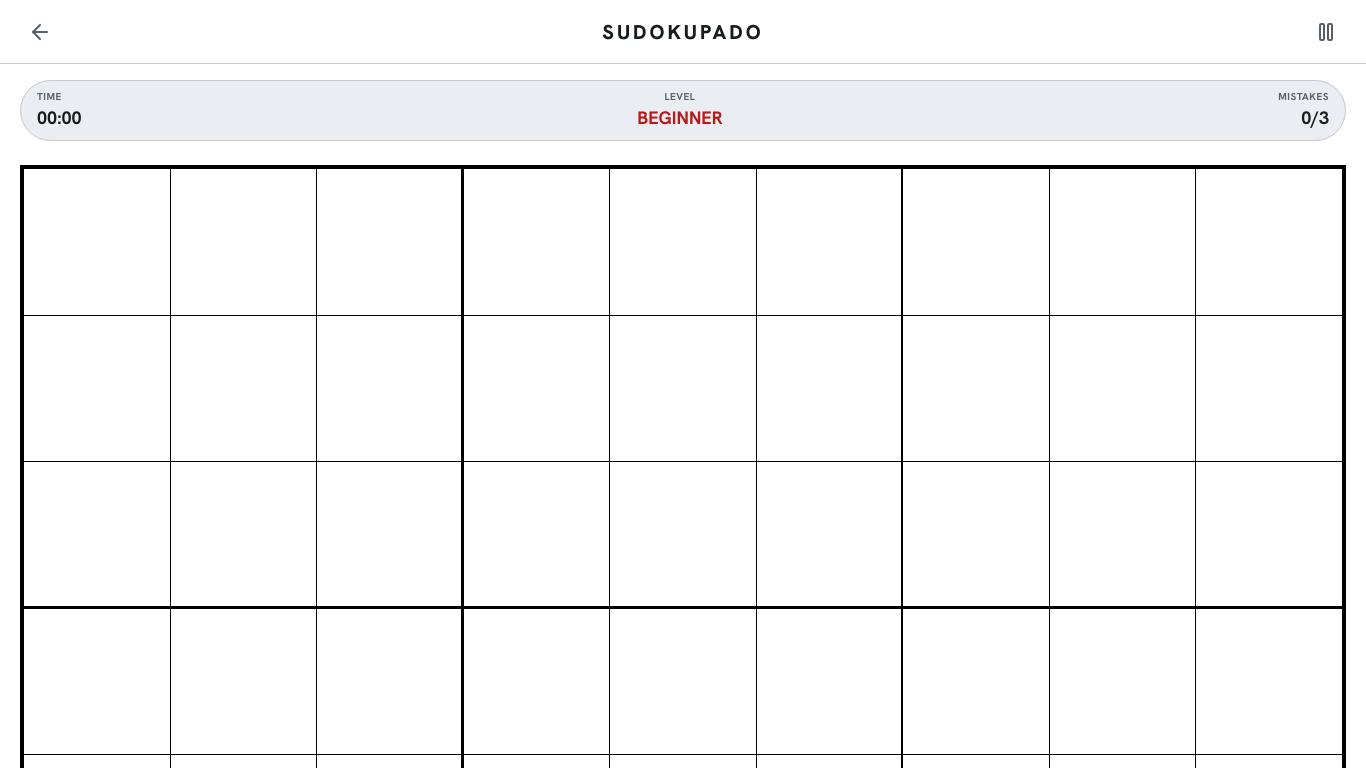
Scenario: Integration: GameScreen Visual Interactions › should update the grid visually when a user clicks a cell and then a number
Click cell 0,0
Click the element with test id "cell-0-0" at (97, 242), box [24, 169, 170, 314]
(page scrolled)
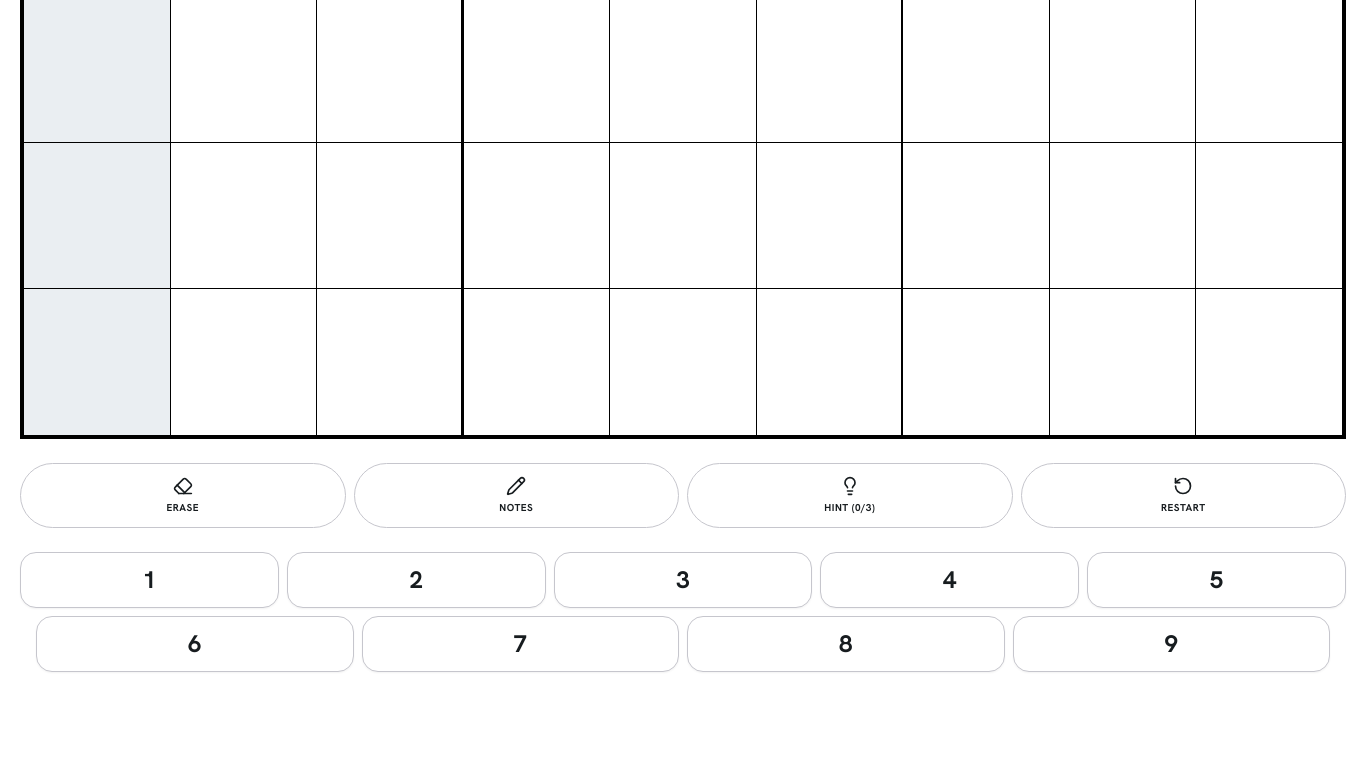
Click the button "1" at (149, 580), box [20, 552, 279, 608]
(page scrolled)
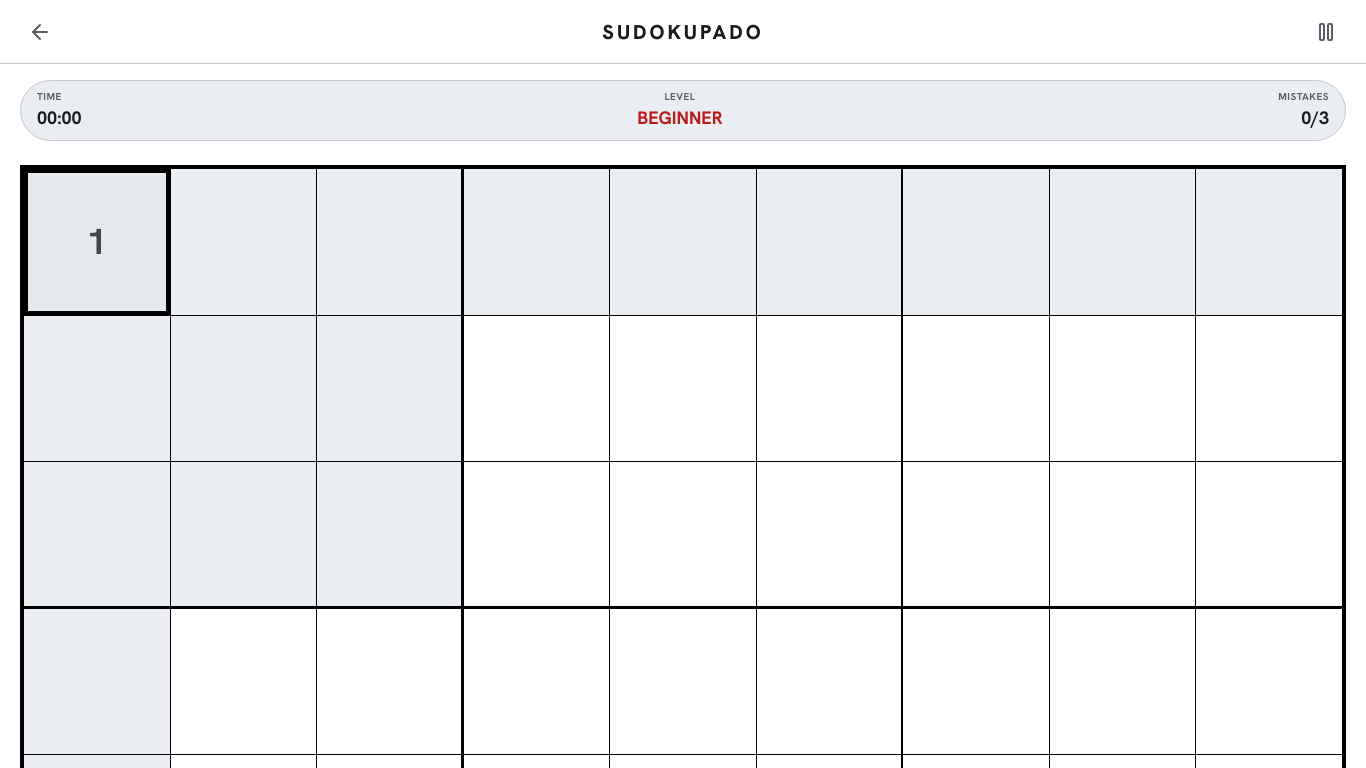
Expected: the text "0/3" is shown, [1301, 104, 1329, 132]
Now the element with test id "cell-0-0" reads "1", box [87, 218, 107, 265]
